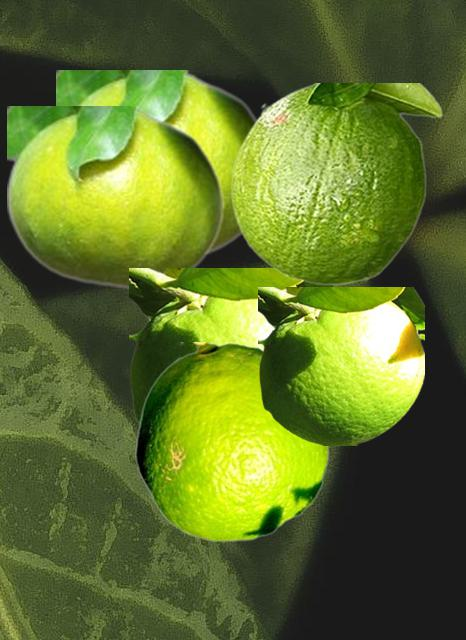dalandan: (230, 83, 442, 284), (7, 106, 224, 291), (135, 342, 328, 541), (56, 70, 258, 255), (129, 268, 336, 423), (258, 287, 423, 444)
